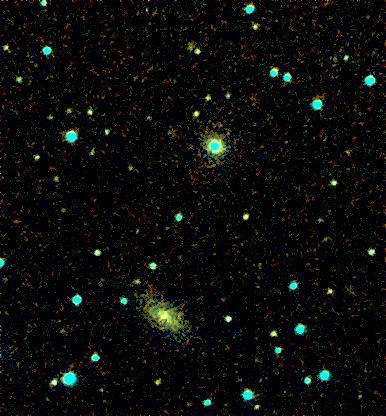star: (303, 204, 333, 234)
